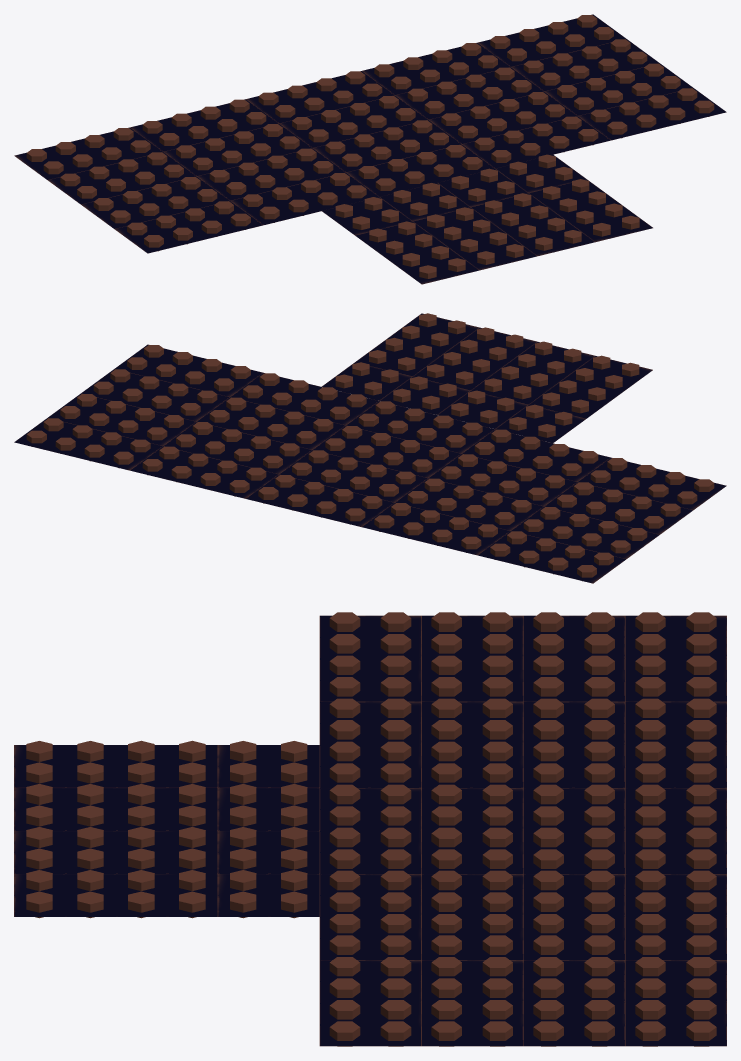
The model's file is terreno_rua_cruzamento_T.obj.
3 renders of one model, top to bottom at view 1: azimuth 30°, elevation 25°; view 2: azimuth 150°, elevation 25°; view 3: azimuth 270°, elevation 25°, orthographic. The views are drawn at different scales.
Visible parts, largest first — view 1: Cube.000_Cube.003, Cube.001_Cube.000; view 2: Cube.000_Cube.003, Cube.001_Cube.000; view 3: Cube.000_Cube.003, Cube.001_Cube.000.
Boxes of the visible parts, bbox=[...] form: Cube.000_Cube.003: bbox=[14, 14, 726, 253]; Cube.001_Cube.000: bbox=[322, 154, 652, 284]; Cube.000_Cube.003: bbox=[14, 344, 726, 583]; Cube.001_Cube.000: bbox=[321, 313, 652, 443]; Cube.000_Cube.003: bbox=[319, 612, 726, 1046]; Cube.001_Cube.000: bbox=[14, 740, 319, 918].
Size of the model in its own units: 20 by 0.3016 by 14.
2 materials, 2 textured.
